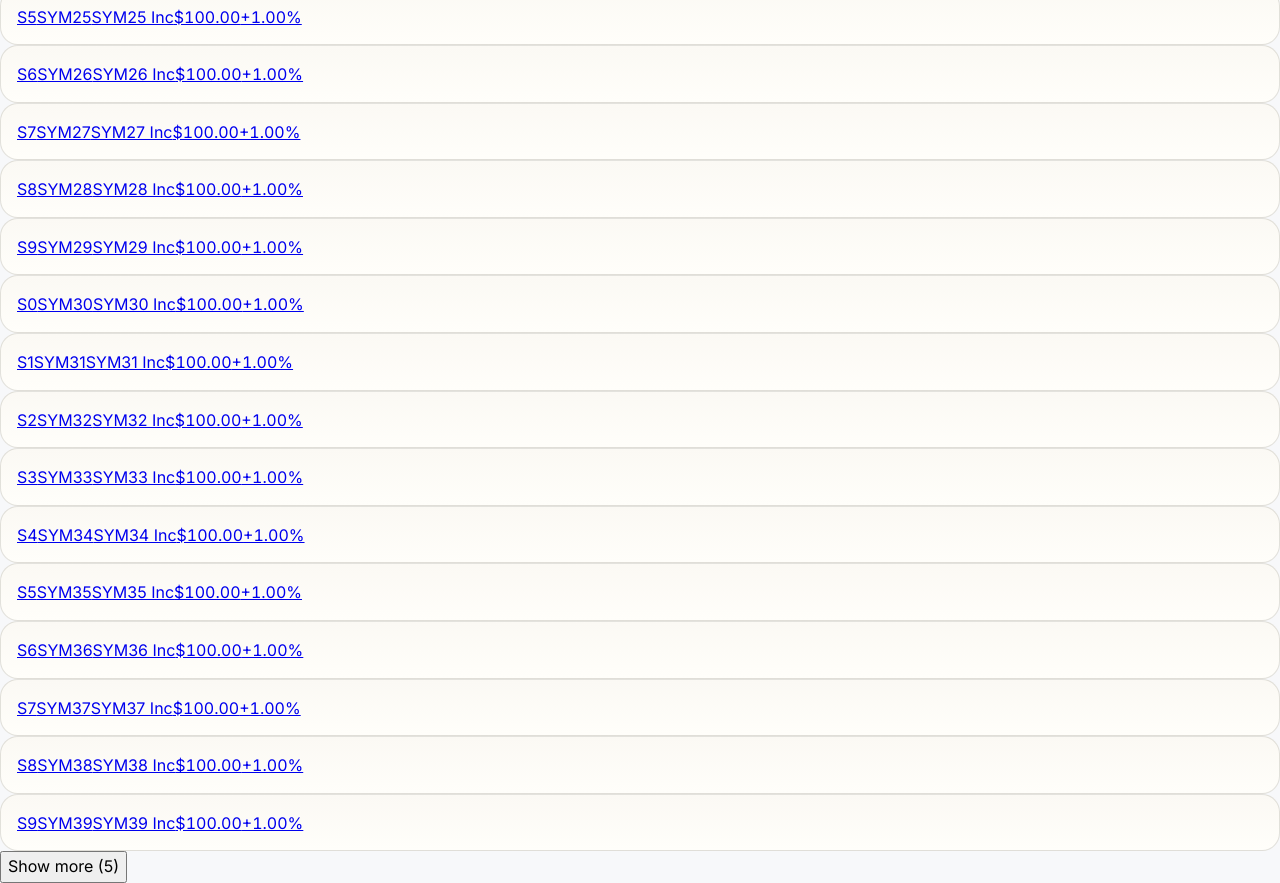
Test: Movers › windowing: shows the first 40 rows, "Show more" reveals the rest
The image size is (1280, 883).
(page scrolled)
Expected: the text "SYM40" is not shown
Click the button "Show more (5)" at (64, 867), box [0,851,127,882]
(page scrolled)
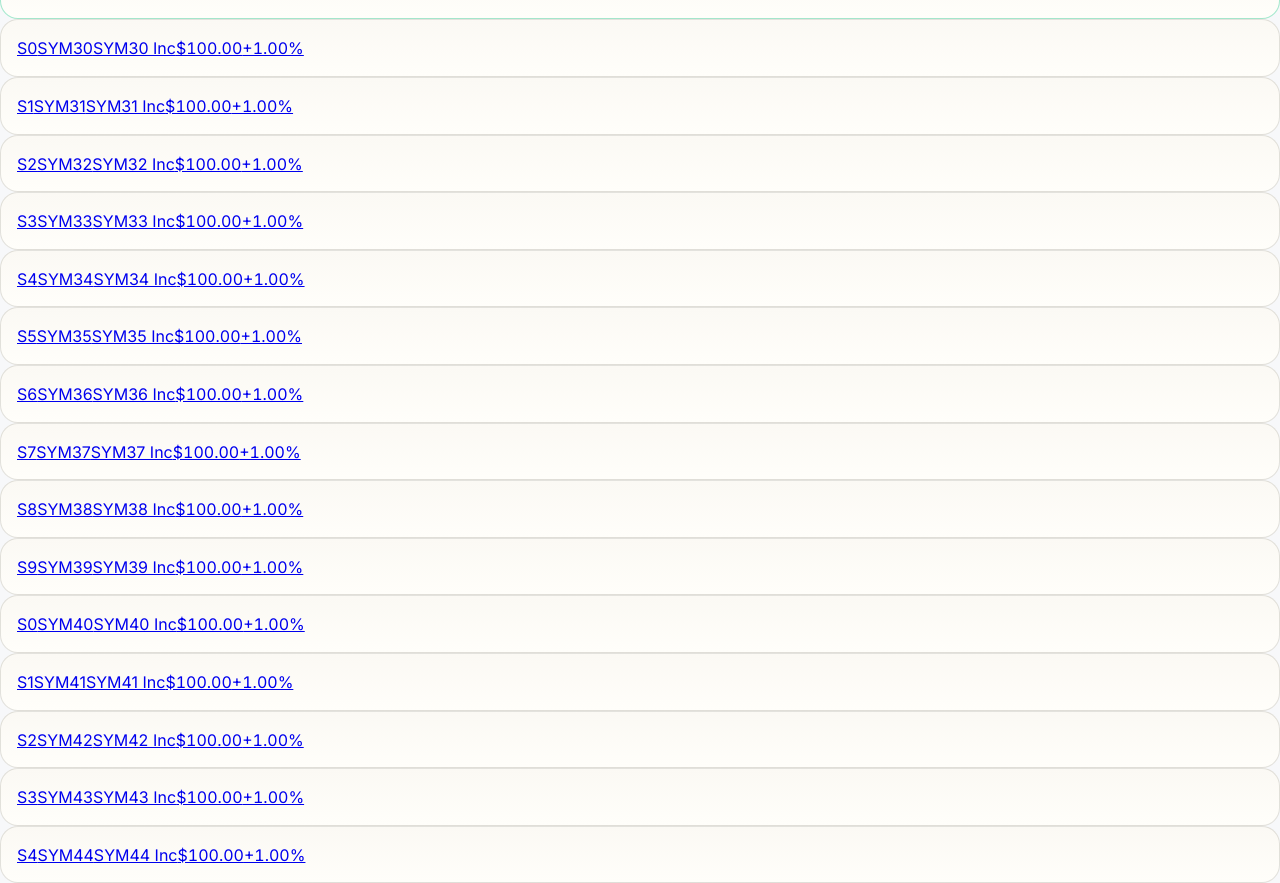
Result: the text "SYM44" is shown at [38,845,94,865]
